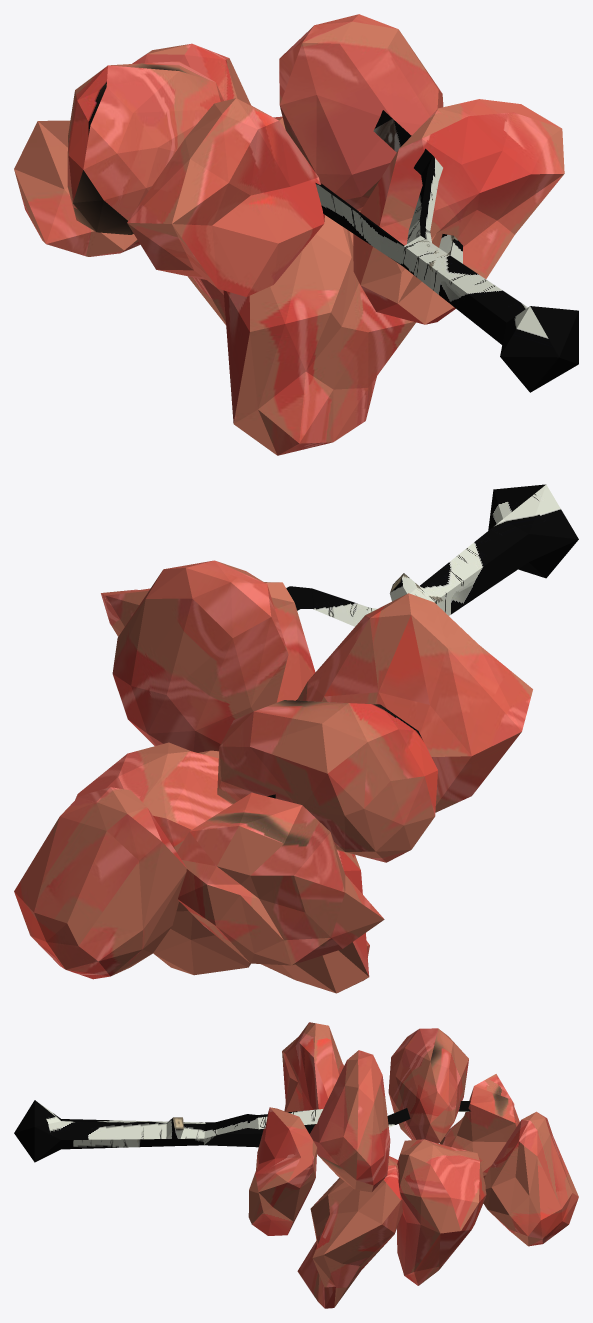
File: lowpoly_tree_birch2.glb
3 renders of one model, top to bottom at view 1: azimuth 30°, elevation 25°; view 2: azimuth 150°, elevation 25°; view 3: azimuth 270°, elevation 25°, orthographic. The views are drawn at different scales.
Parts seen in each view (by area): view 1: Mesh; view 2: Mesh; view 3: Mesh.
Boxes of the visible parts, x1=… form: Mesh: x1=14, y1=14, x2=578, y2=455; Mesh: x1=14, y1=484, x2=578, y2=993; Mesh: x1=14, y1=1022, x2=578, y2=1308.
Size of the model in its own units: 5247 by 4706 by 9332.
Materials: 1 (1 with a texture image).
